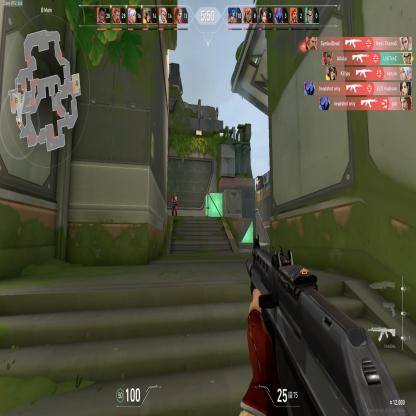enemy: (171, 191, 178, 216)
